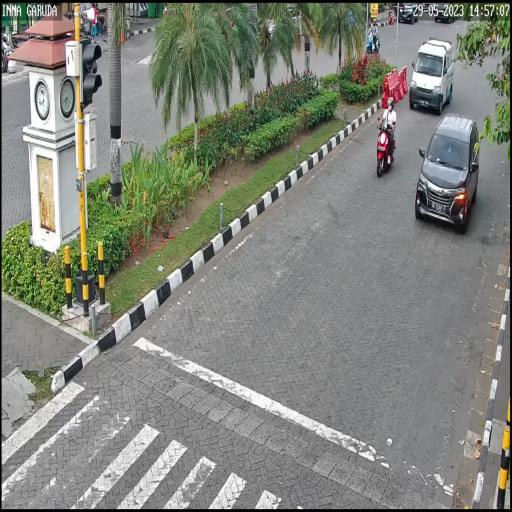mobil: (414, 113, 480, 232), (409, 38, 453, 116)
motor: (374, 113, 396, 178)
